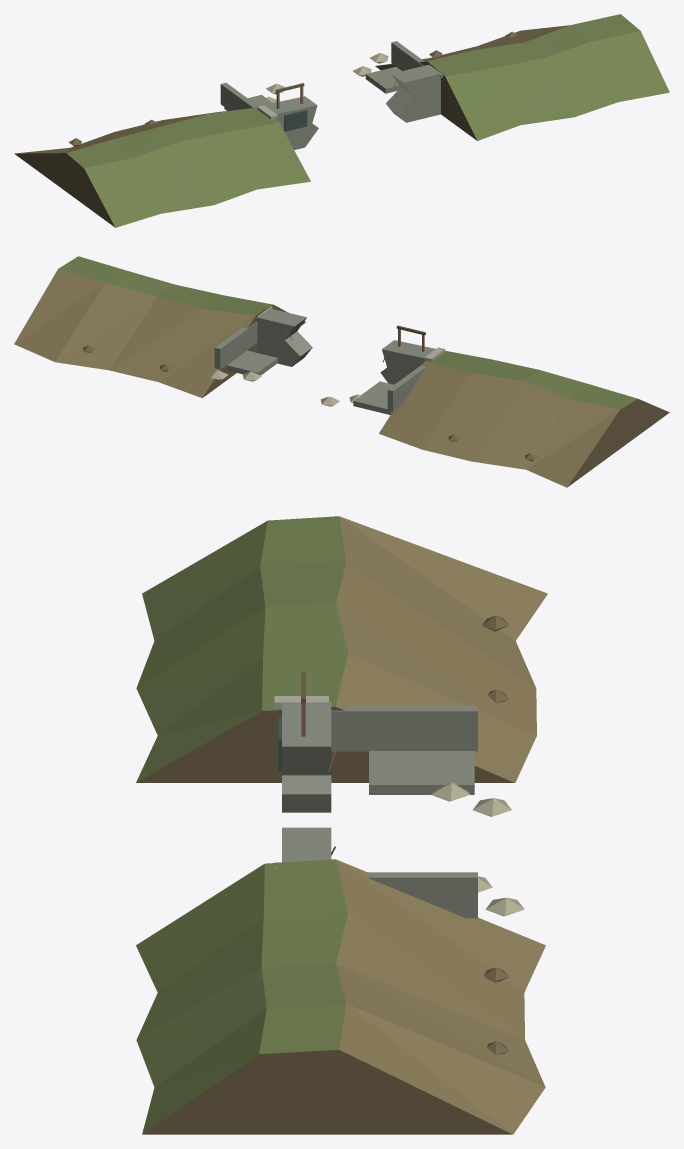
The model's file is ua_dam_breached.obj.
The picture shows the model from 3 angles, top to bottom: view 1: azimuth 30°, elevation 25°; view 2: azimuth 150°, elevation 25°; view 3: azimuth 270°, elevation 25°; orthographic projection. The views are drawn at different scales.
Parts seen in each view (by area): view 1: ua_dam_breached; view 2: ua_dam_breached; view 3: ua_dam_breached.
Part boxes in pixels (x1,y1,x2,y2): ua_dam_breached: (14,14,669,227); ua_dam_breached: (14,256,669,487); ua_dam_breached: (136,516,547,1134).
Size of the model in its own units: 40 by 4.07 by 12.88.
